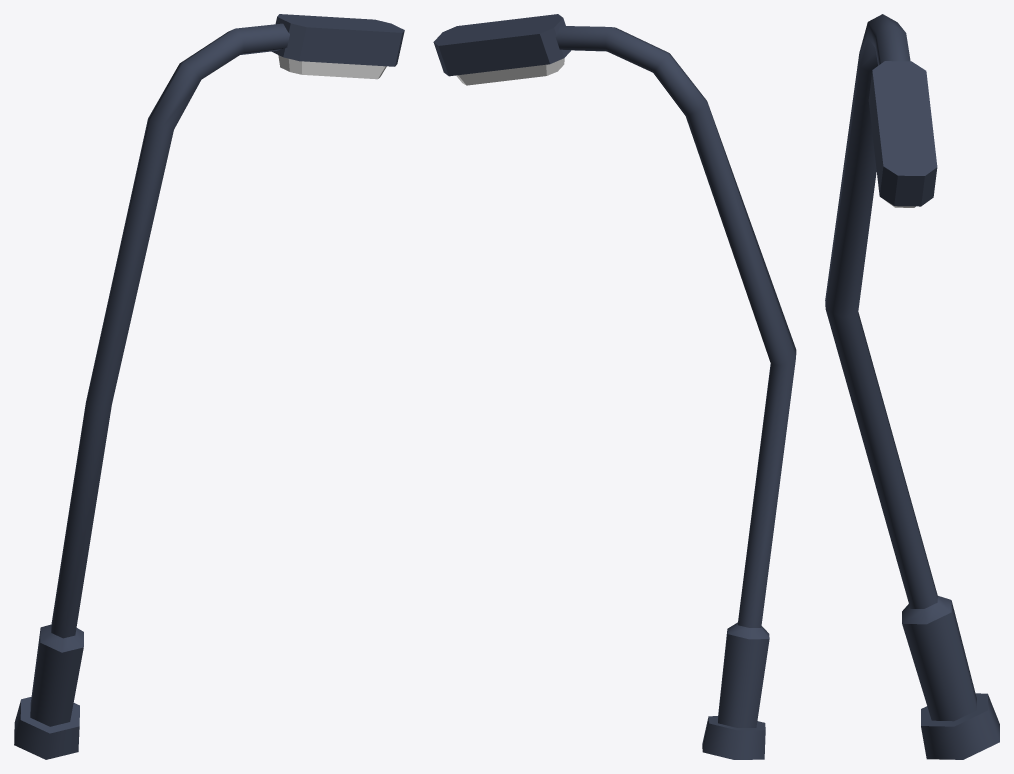
Rendered from lump_broken.fbx.
3 renders of one model, left to right at view 1: azimuth 30°, elevation 25°; view 2: azimuth 150°, elevation 25°; view 3: azimuth 270°, elevation 25°, orthographic. The views are drawn at different scales.
Visible parts, largest first — view 1: lump_broken; view 2: lump_broken; view 3: lump_broken.
Boxes of the visible parts, x1,y1,x2,y2 form: lump_broken: (14, 14, 404, 759); lump_broken: (433, 14, 796, 759); lump_broken: (825, 14, 999, 759).
Bounding box in the file's own units: 405 × 748 × 145.
